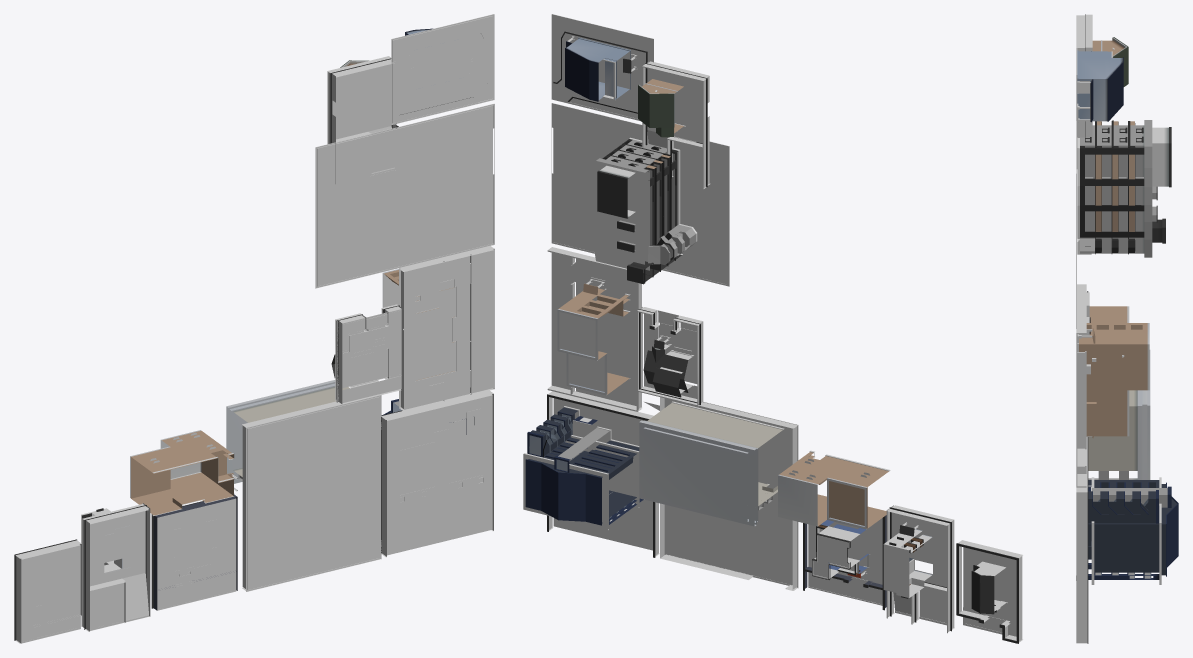
The model's file is SM_000287_merge_w40h102_atlas1_1_1_lv2.fbx.
The picture shows the model from 3 angles, left to right: view 1: azimuth 30°, elevation 25°; view 2: azimuth 150°, elevation 25°; view 3: azimuth 270°, elevation 25°; orthographic projection. The views are drawn at different scales.
Visible parts, largest first — view 1: SM_000287.001; view 2: SM_000287.001; view 3: SM_000287.001.
Boxes of the visible parts, bbox=[...] form: SM_000287.001: bbox=[14, 14, 494, 643]; SM_000287.001: bbox=[523, 14, 1022, 643]; SM_000287.001: bbox=[1076, 14, 1178, 643].
Size of the model in its own units: 99.82 by 104 by 20.91.
